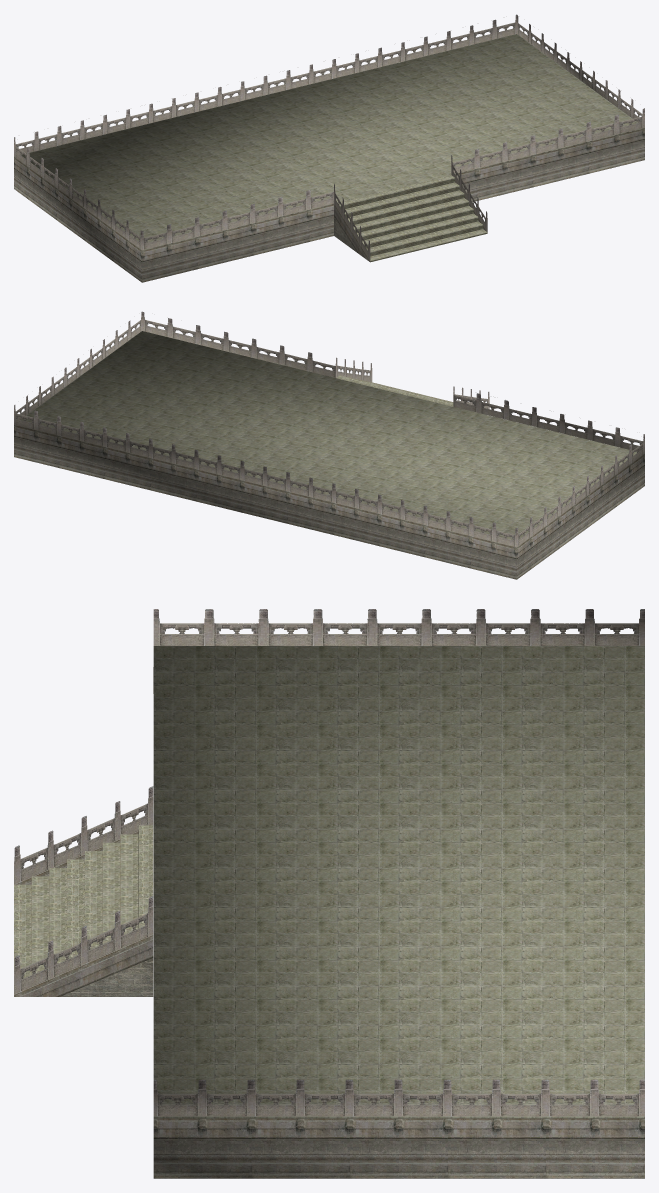
The model's file is cj_pal_guard_dan.glb.
The picture shows the model from 3 angles, top to bottom: view 1: azimuth 30°, elevation 25°; view 2: azimuth 150°, elevation 25°; view 3: azimuth 270°, elevation 25°; orthographic projection. The views are drawn at different scales.
Parts seen in each view (by area): view 1: CJ_pal_guard_dan_floor01, CJ_pal_guard_dan_wall, CJ_pal_guard_dan_fence_al, CJ_pal_guard_dan_floor02; view 2: CJ_pal_guard_dan_floor01, CJ_pal_guard_dan_wall, CJ_pal_guard_dan_fence_al, CJ_pal_guard_dan_floor02; view 3: CJ_pal_guard_dan_floor01, CJ_pal_guard_dan_wall, CJ_pal_guard_dan_fence_al, CJ_pal_guard_dan_floor02.
Boxes of the visible parts, bbox=[...] form: CJ_pal_guard_dan_floor01: bbox=[22, 34, 644, 250]; CJ_pal_guard_dan_wall: bbox=[14, 128, 644, 282]; CJ_pal_guard_dan_fence_al: bbox=[14, 14, 644, 261]; CJ_pal_guard_dan_floor02: bbox=[338, 175, 487, 262]; CJ_pal_guard_dan_floor01: bbox=[21, 331, 636, 539]; CJ_pal_guard_dan_wall: bbox=[14, 425, 644, 579]; CJ_pal_guard_dan_fence_al: bbox=[14, 311, 644, 547]; CJ_pal_guard_dan_floor02: bbox=[336, 375, 453, 406]; CJ_pal_guard_dan_floor01: bbox=[153, 646, 644, 1118]; CJ_pal_guard_dan_wall: bbox=[14, 833, 644, 1178]; CJ_pal_guard_dan_fence_al: bbox=[14, 609, 644, 1116]; CJ_pal_guard_dan_floor02: bbox=[14, 825, 153, 977].
Size of the model in its own units: 36 by 3.65 by 20.4.
4 materials, 4 textured.
